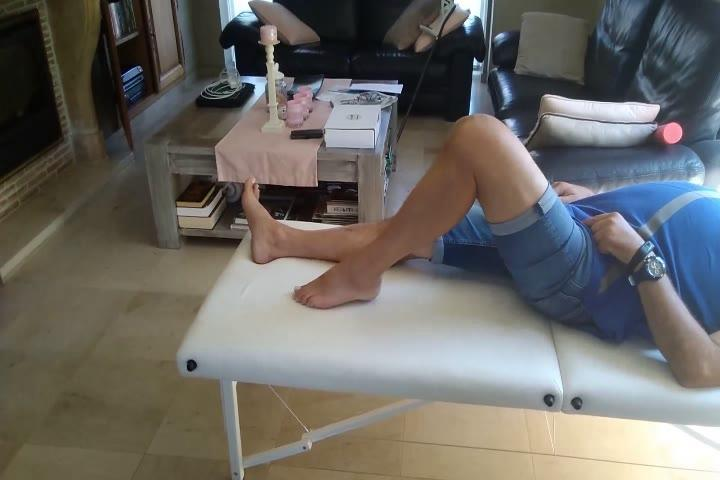lower_body: (237, 104, 610, 337)
